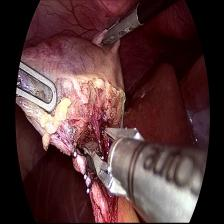Clipper: (90, 122, 146, 202)
Grasper: (14, 62, 60, 115), (101, 8, 142, 48)
